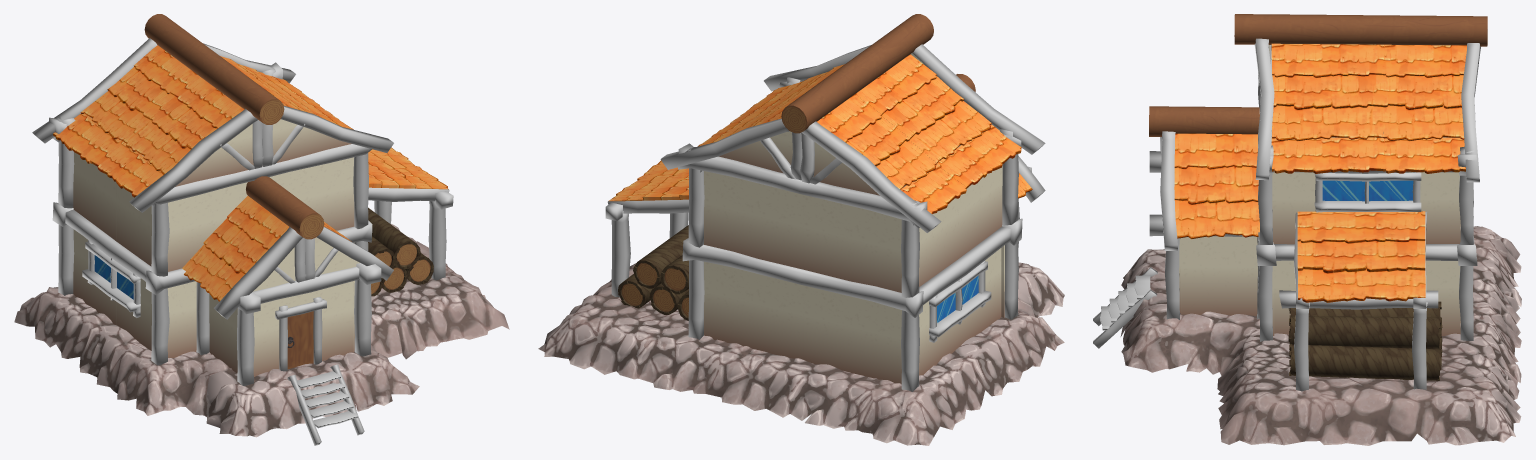
The model's file is dom.fbx.
3 renders of one model, left to right at view 1: azimuth 30°, elevation 25°; view 2: azimuth 150°, elevation 25°; view 3: azimuth 270°, elevation 25°, orthographic. The views are drawn at different scales.
Parts seen in each view (by area): view 1: Cube.035, Cube.023, Plane.005, Plane.004, Plane.007, Circle.008, Cube.018, lowpoly.018, Cube.022, lowpoly.005, lowpoly.012, Cube.032 (+37 smaller); view 2: Cube.035, Cube.037, Cube.029, Plane.005, Circle.008, Plane.007, lowpoly.019, lowpoly.016, lowpoly.017, Plane.006, lowpoly.018, Cube.031 (+22 smaller); view 3: Cube.035, Plane.009, Plane.005, Plane.004, Plane.007, Circle.008, Cube.016, Circle.003, Circle.004, Plane.006, Circle.007, Plane.008 (+26 smaller).
Boxes of the visible parts, box(x1,y1,x2,y2) form: Cube.035: box(14, 224, 509, 437); Cube.023: box(167, 157, 354, 271); Plane.005: box(119, 74, 319, 174); Plane.004: box(182, 196, 351, 301); Plane.007: box(80, 45, 290, 139); Circle.008: box(144, 14, 284, 124); Cube.018: box(253, 281, 353, 376); lowpoly.018: box(129, 106, 393, 212); Cube.022: box(175, 119, 351, 186); lowpoly.005: box(214, 226, 393, 319); lowpoly.012: box(154, 144, 371, 204); Cube.032: box(73, 152, 116, 241); Cube.035: box(538, 262, 1064, 445); Cube.037: box(704, 261, 901, 384); Cube.029: box(704, 171, 901, 292); Plane.005: box(754, 54, 991, 162); Circle.008: box(781, 14, 933, 133); Plane.007: box(730, 94, 936, 189); lowpoly.019: box(660, 118, 941, 232); lowpoly.016: box(682, 238, 923, 317); lowpoly.017: box(678, 143, 927, 228); Plane.006: box(724, 81, 1021, 188); lowpoly.018: box(764, 44, 1045, 154); Cube.031: box(956, 164, 1002, 260); Cube.035: box(1120, 226, 1521, 445); Plane.009: box(1297, 211, 1425, 302); Plane.005: box(1271, 43, 1383, 140); Plane.004: box(1174, 133, 1259, 239); Plane.007: box(1383, 44, 1466, 140); Circle.008: box(1234, 14, 1487, 46); Cube.016: box(1181, 236, 1257, 315); Circle.003: box(1289, 344, 1442, 380); Circle.004: box(1289, 315, 1441, 348); Plane.006: box(1271, 137, 1383, 173); Circle.007: box(1149, 106, 1259, 136); Plane.008: box(1383, 137, 1465, 173).
Size of the model in its own units: 958 by 724 by 882.
